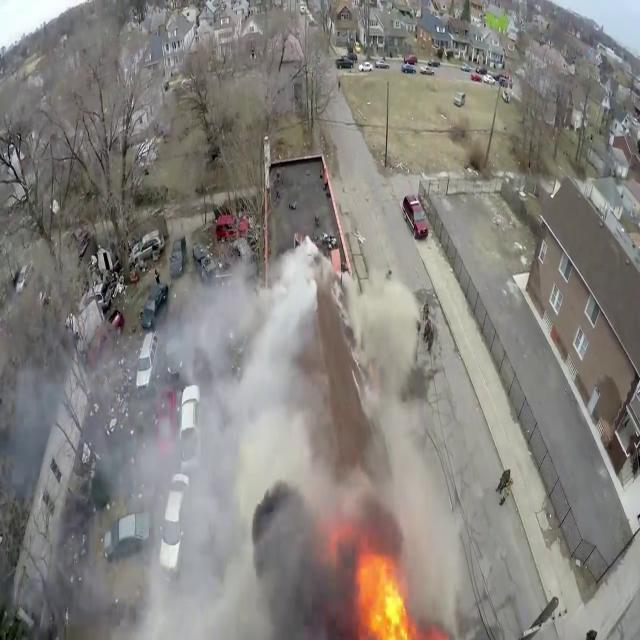Fire: (347, 536, 417, 638)
Smoke: (107, 238, 392, 634)
